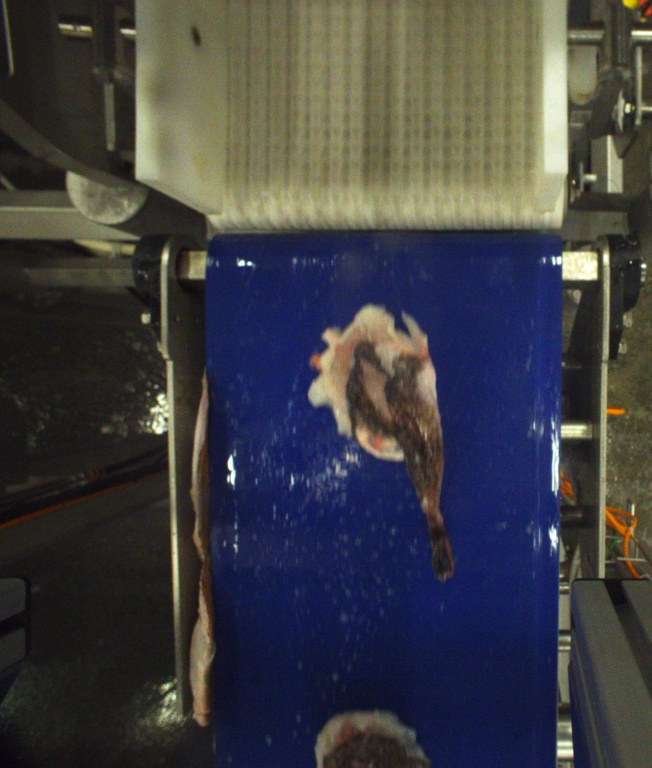ANF: (309, 305, 461, 578)
